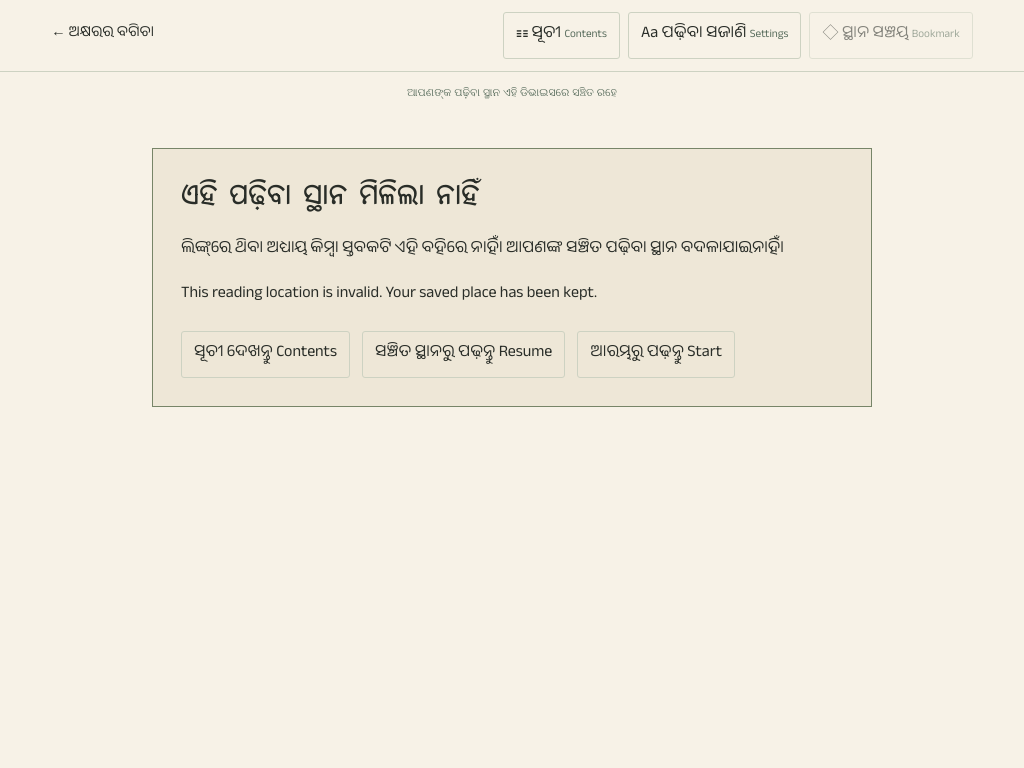
recovers an invalid fragment from the contents menu only after a chapter choice
Click the button "ସୂଚୀ ଦେଖନ୍ତୁ Contents" at (266, 355), box [181,331,350,378]
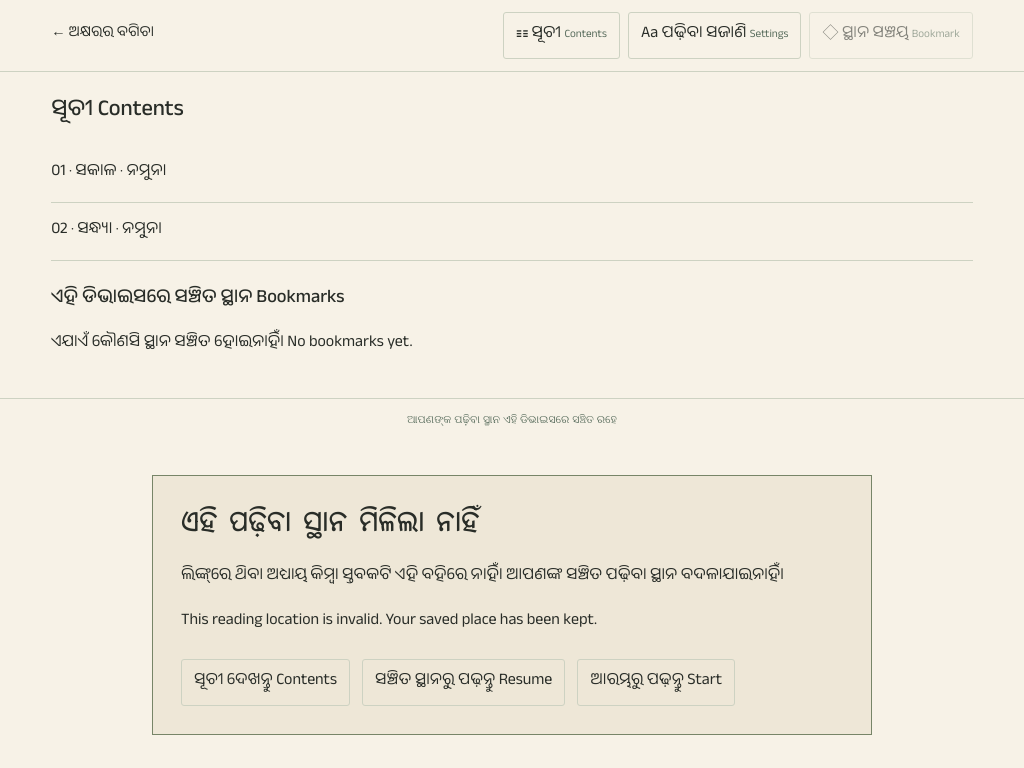
Click the link "01 · ସକାଳ · ନମୁନା" at (121, 173), box [51,145,973,203]
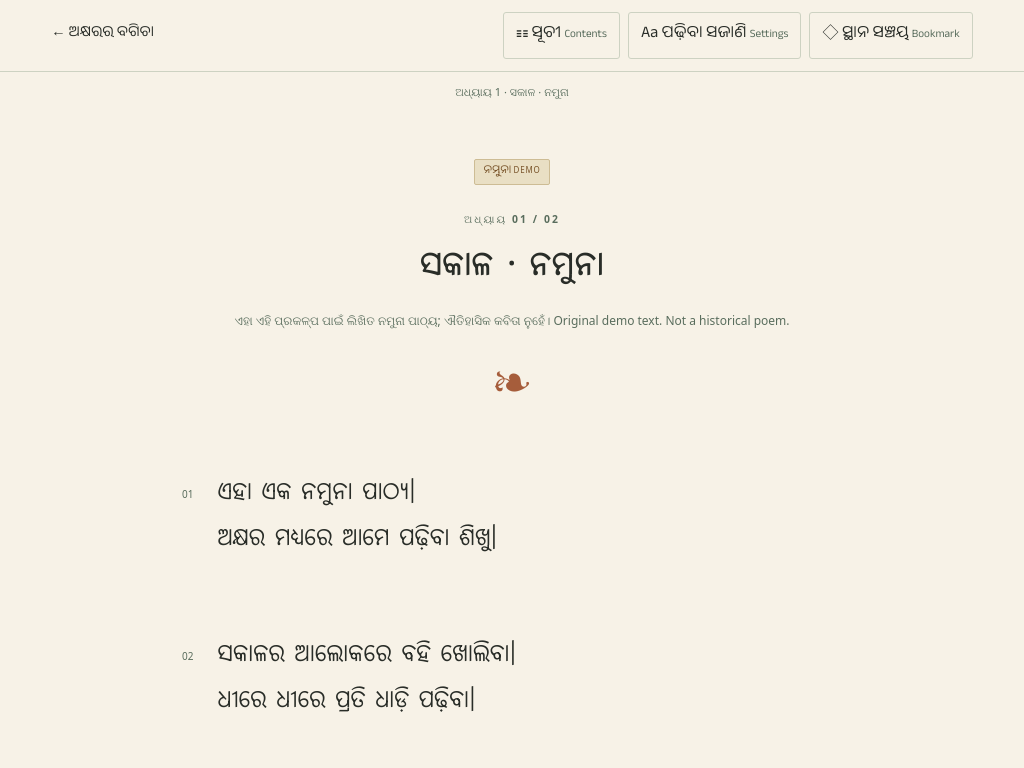
Result: the heading "ସକାଳ · ନମୁନା" is shown at [420,244,604,292]
